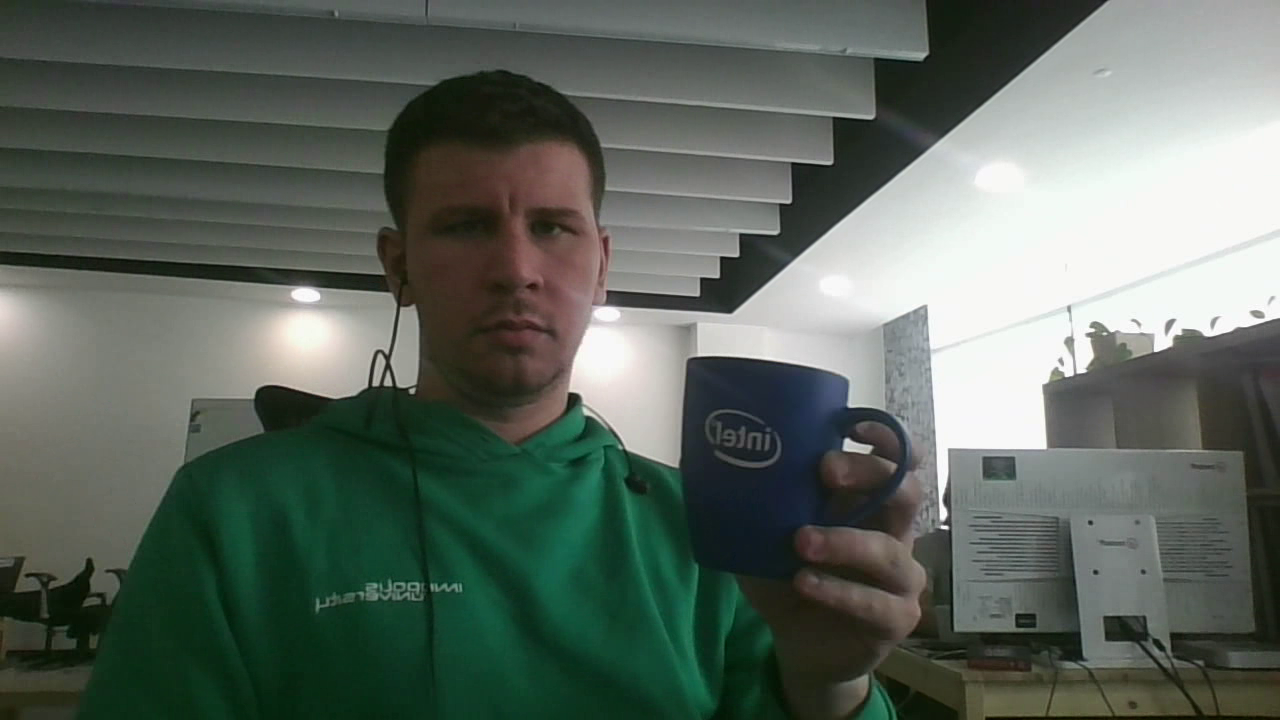cup: (679, 355, 910, 582)
